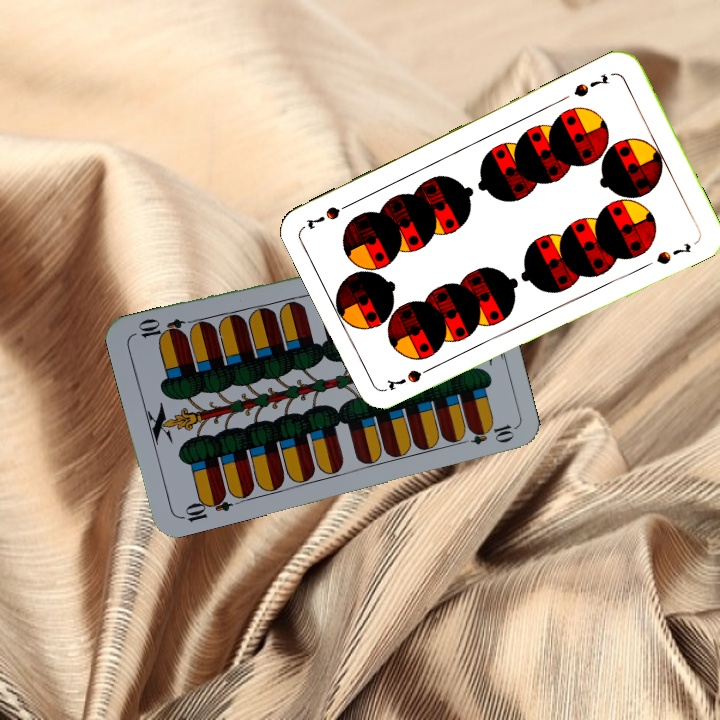E10: (176, 489, 234, 525)
S7: (383, 361, 439, 393), (570, 70, 613, 100)
